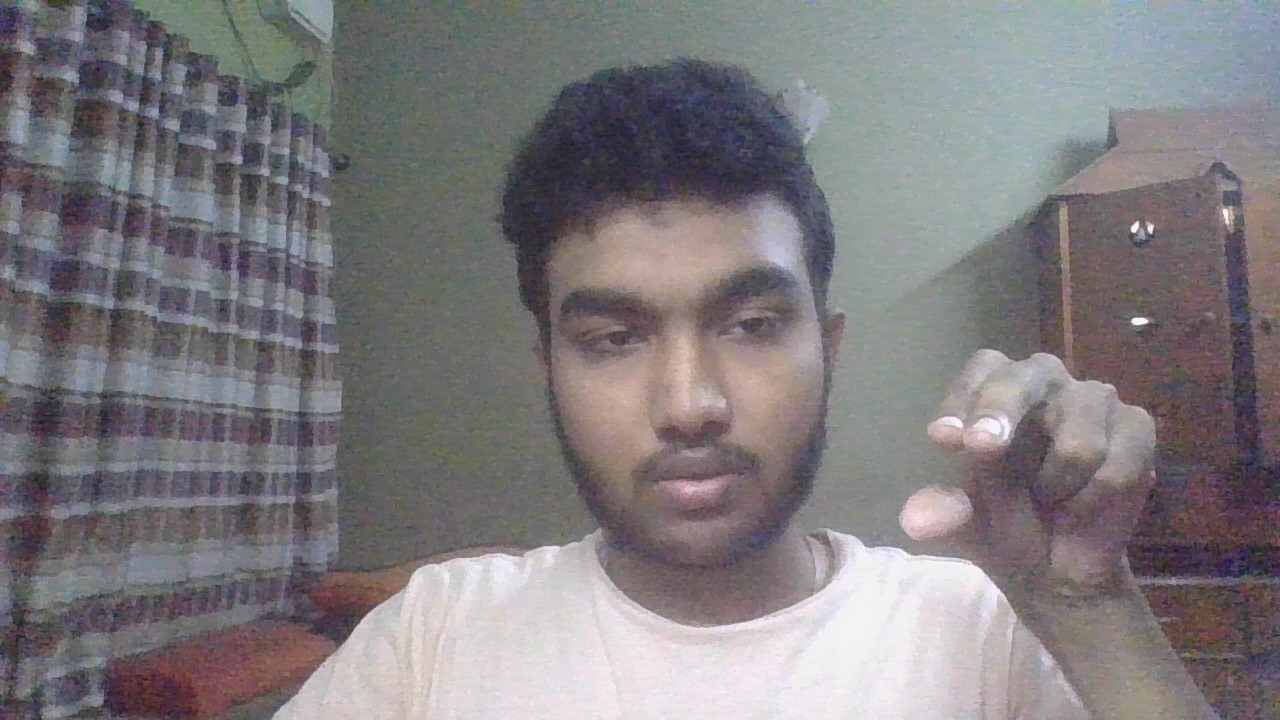No: (888, 333, 1167, 617)
